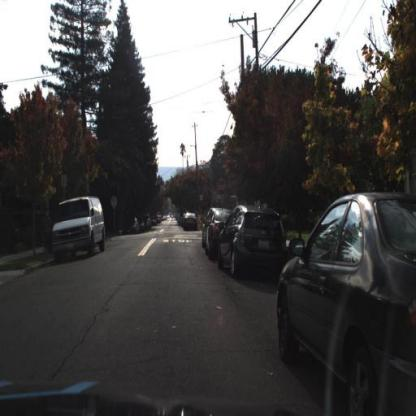car: (276, 190, 416, 415), (216, 198, 290, 280), (214, 204, 288, 276), (46, 190, 114, 268), (50, 194, 104, 262), (201, 203, 235, 258), (181, 208, 201, 236), (200, 208, 212, 250), (122, 214, 140, 236), (182, 213, 198, 231), (125, 216, 139, 232)
